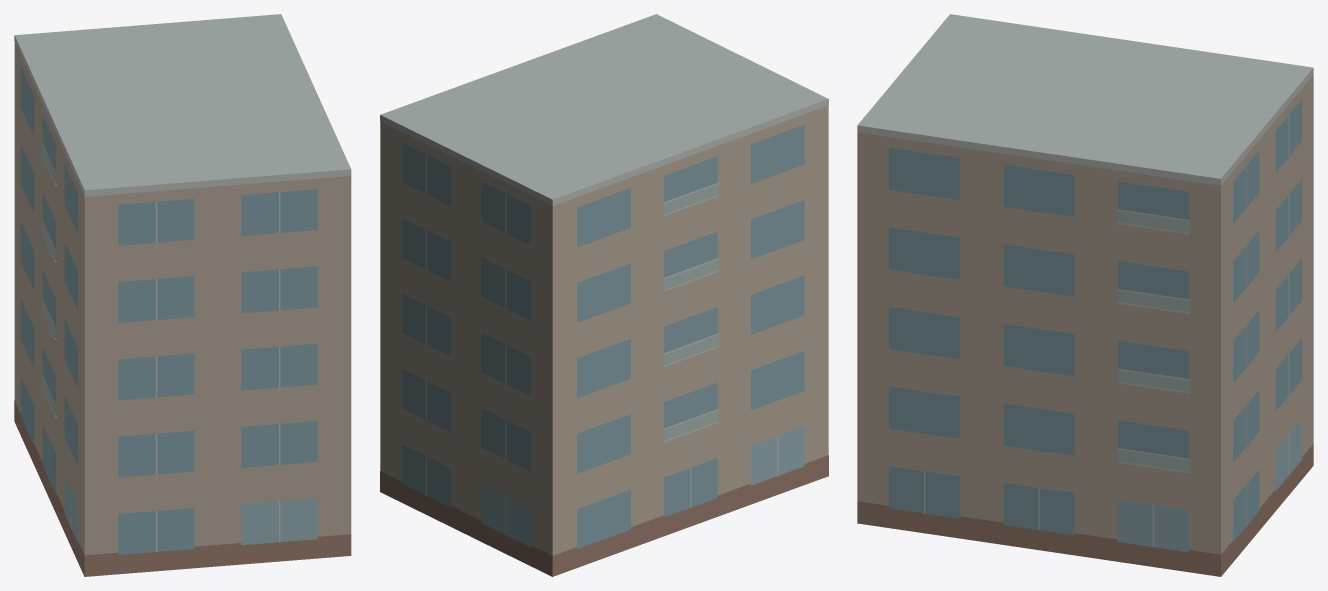
Rendered from survey-upis-32702983.glb.
3 views of the same model, side by side, from view 1: azimuth 30°, elevation 25°; view 2: azimuth 150°, elevation 25°; view 3: azimuth 270°, elevation 25° (orthographic). The views are drawn at different scales.
Visible parts, largest first — view 1: survey-upis-32702983.tmp; view 2: survey-upis-32702983.tmp; view 3: survey-upis-32702983.tmp.
Boxes of the visible parts, x1,y1,x2,y2 form: survey-upis-32702983.tmp: (14,14,351,576); survey-upis-32702983.tmp: (380,14,828,576); survey-upis-32702983.tmp: (857,14,1313,576).
Size of the model in its own units: 12.76 by 14.35 by 14.92.
